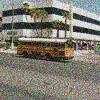buses: (12, 38, 76, 64)
